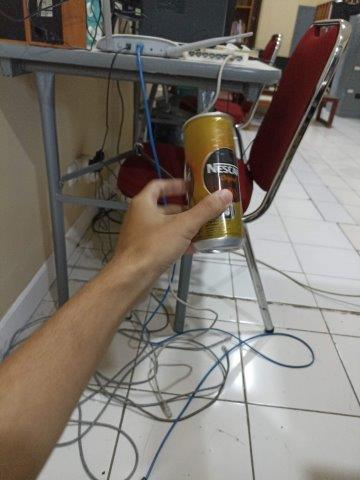kaleng: (182, 111, 243, 254)
